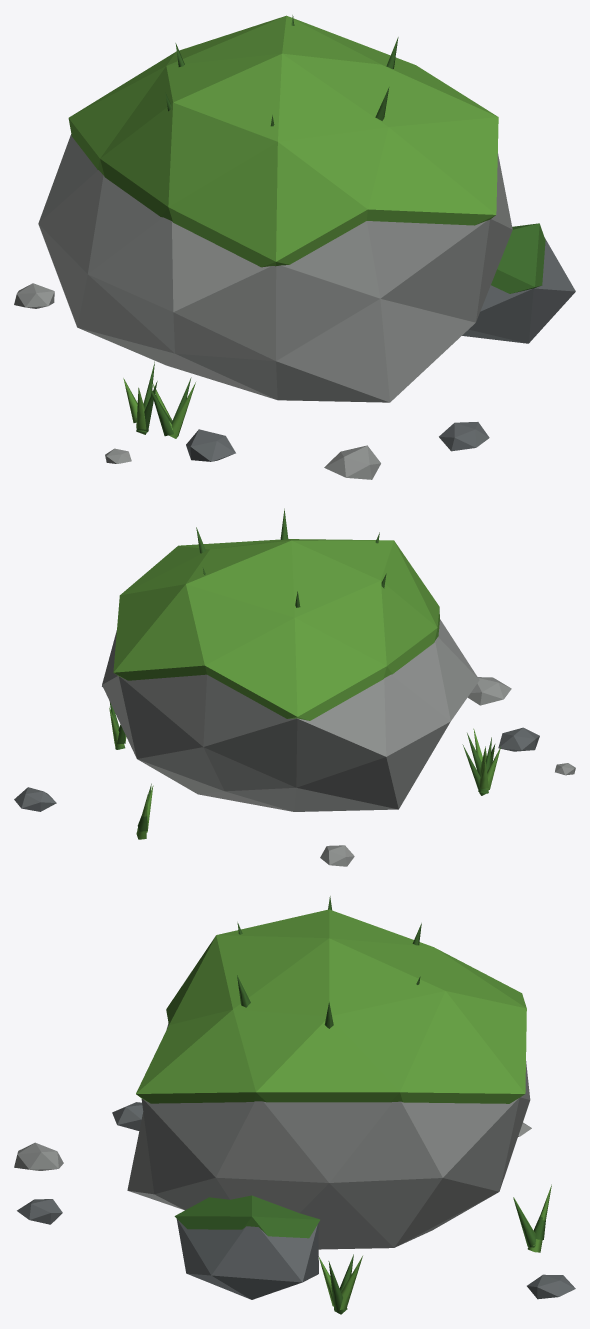
Rendered from BoulderMossy.glb.
The picture shows the model from 3 angles, top to bottom: view 1: azimuth 30°, elevation 25°; view 2: azimuth 150°, elevation 25°; view 3: azimuth 270°, elevation 25°; orthographic projection. The views are drawn at different scales.
Parts seen in each view (by area): view 1: Body; view 2: Body; view 3: Body.
Boxes of the visible parts, x1,y1,x2,y2 form: Body: [14, 15, 575, 479]; Body: [14, 508, 575, 866]; Body: [14, 896, 575, 1314].
Size of the model in its own units: 5.66 by 3.22 by 5.82.
1 material, 1 textured.
